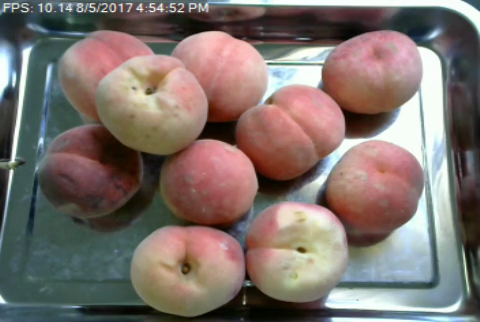Peach: (129, 224, 245, 318), (243, 202, 350, 303), (99, 55, 205, 154), (236, 85, 345, 181), (55, 28, 154, 128), (41, 122, 141, 217), (326, 139, 423, 236), (174, 29, 271, 122), (322, 27, 421, 115), (159, 138, 258, 225)
